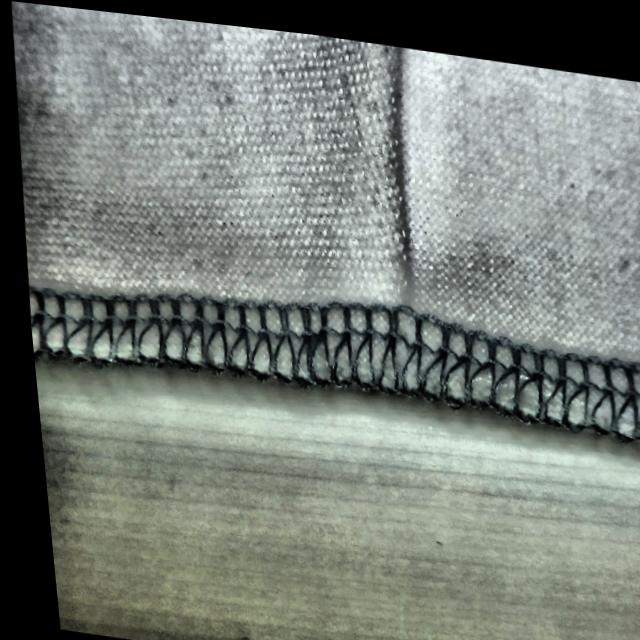seam: (313, 65, 464, 400)
